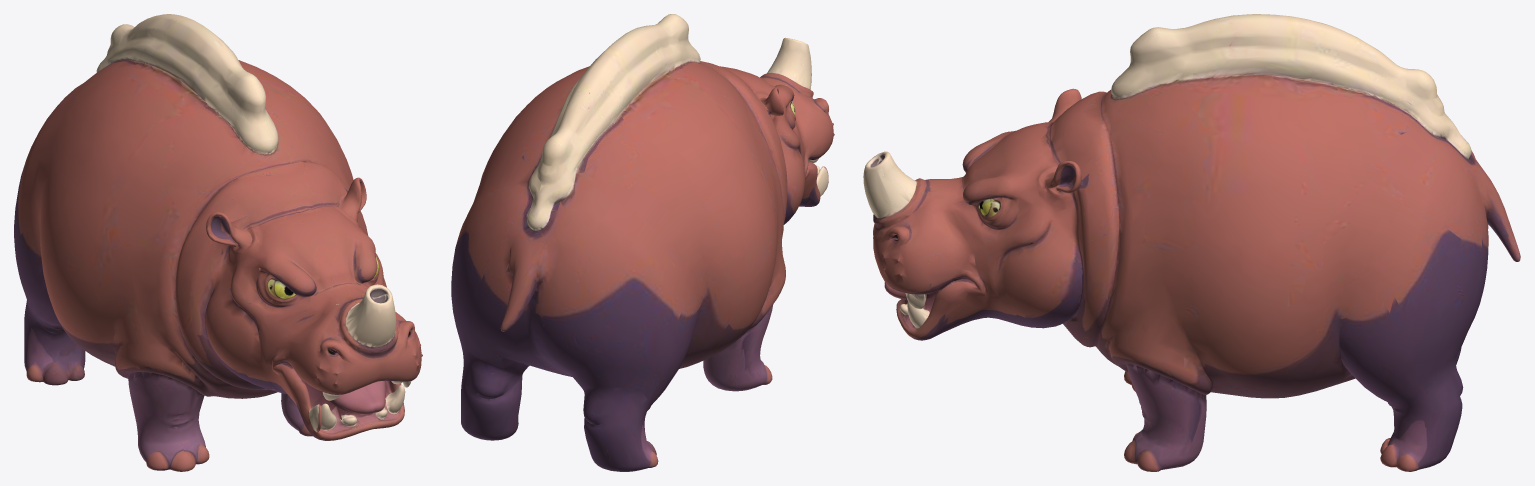
File: scaldamus.glb
3 renders of one model, left to right at view 1: azimuth 30°, elevation 25°; view 2: azimuth 150°, elevation 25°; view 3: azimuth 270°, elevation 25°, orthographic. The views are drawn at different scales.
Visible parts, largest first — view 1: Mesh_0; view 2: Mesh_0; view 3: Mesh_0.
Boxes of the visible parts, box(x1,y1,x2,y2) form: Mesh_0: box(14, 14, 422, 471); Mesh_0: box(451, 14, 834, 471); Mesh_0: box(863, 14, 1520, 471).
Size of the model in its own units: 1.02 by 1.29 by 1.9.
Materials: 1 (1 with a texture image).
